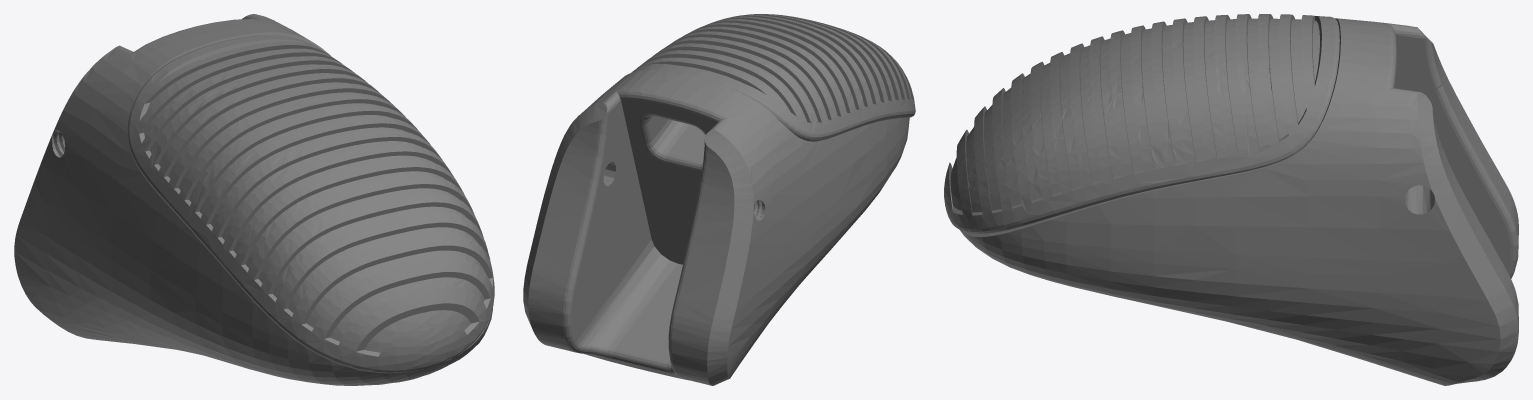
File: lh_thumb_distal_vis.obj
The picture shows the model from 3 angles, left to right: view 1: azimuth 30°, elevation 25°; view 2: azimuth 150°, elevation 25°; view 3: azimuth 270°, elevation 25°; orthographic projection. The views are drawn at different scales.
Visible parts, largest first — view 1: lh_thumb_distal; view 2: lh_thumb_distal; view 3: lh_thumb_distal.
Boxes of the visible parts, bbox=[...] form: lh_thumb_distal: bbox=[14, 14, 494, 385]; lh_thumb_distal: bbox=[523, 14, 915, 385]; lh_thumb_distal: bbox=[944, 14, 1518, 385].
Size of the model in its own units: 0.019 by 0.023 by 0.0378.
Materials: 1 (1 with a texture image).
